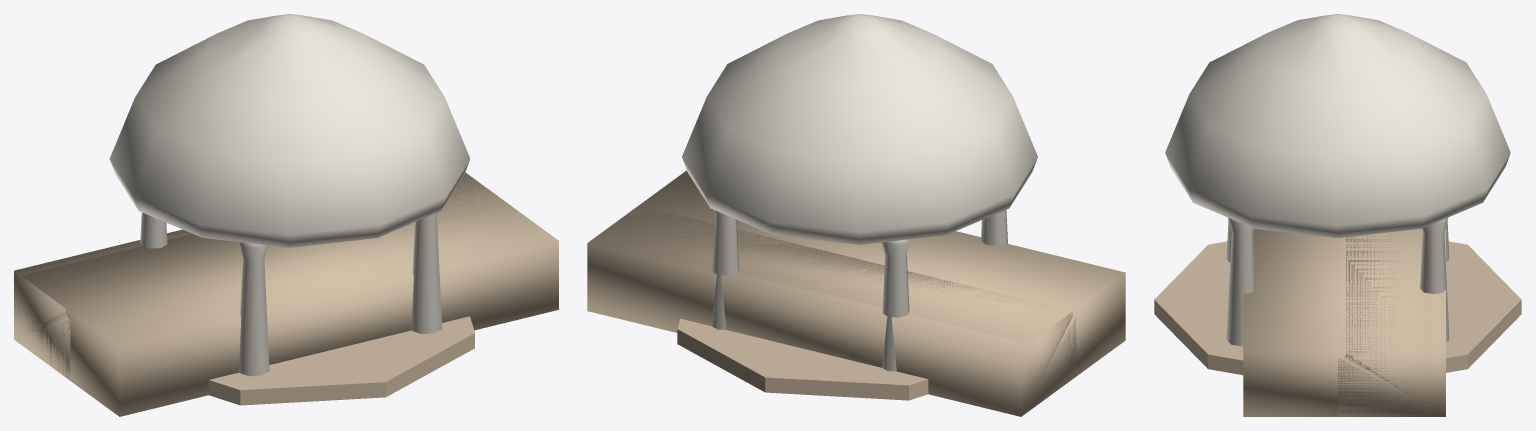
The model's file is ghat-kit.glb.
3 views of the same model, side by side, from view 1: azimuth 30°, elevation 25°; view 2: azimuth 150°, elevation 25°; view 3: azimuth 270°, elevation 25° (orthographic). The views are drawn at different scales.
Parts seen in each view (by area): view 1: ChhatriPavilion, Landing, Step; view 2: ChhatriPavilion, Step, Landing; view 3: ChhatriPavilion, Landing, Step.
Part boxes in pixels (box(x1,y1,x2,y2)): ChhatriPavilion: box(109, 14, 474, 405); Landing: box(21, 172, 558, 416); Step: box(14, 173, 504, 378); ChhatriPavilion: box(677, 14, 1037, 400); Step: box(587, 206, 1076, 416); Landing: box(595, 170, 1125, 411); ChhatriPavilion: box(1154, 14, 1521, 375); Landing: box(1243, 228, 1432, 416); Step: box(1338, 227, 1445, 416).
Size of the model in its own units: 1.8 by 1.22 by 1.36.
